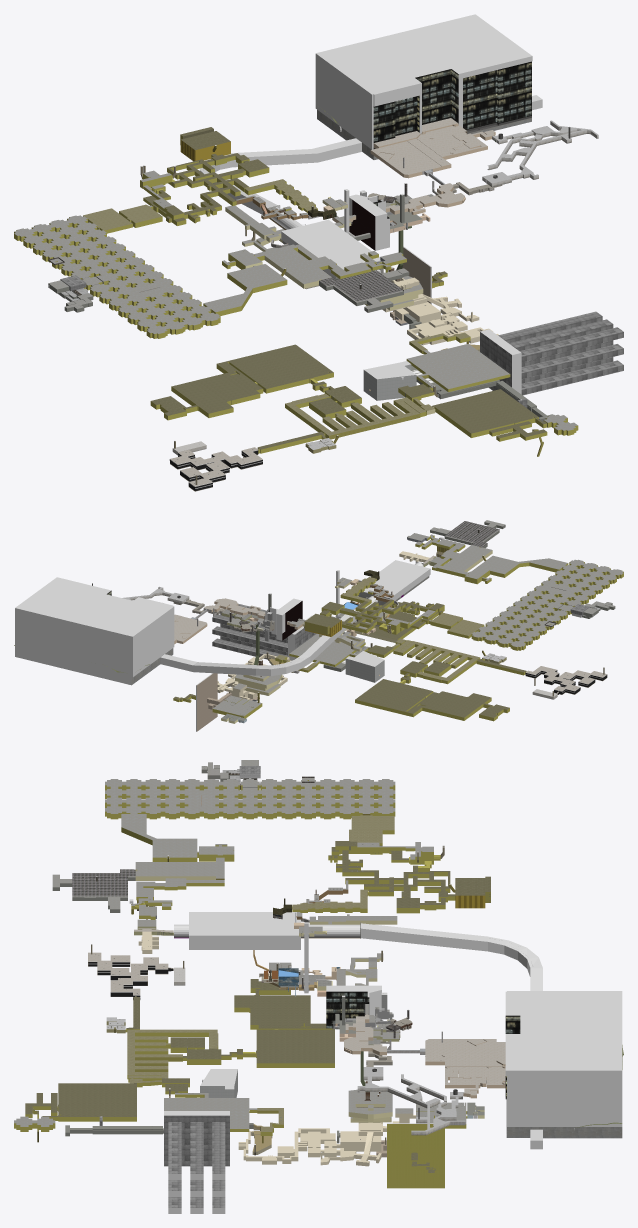
File: blender_map.glb
The picture shows the model from 3 angles, top to bottom: view 1: azimuth 30°, elevation 25°; view 2: azimuth 150°, elevation 25°; view 3: azimuth 270°, elevation 25°; orthographic projection. The views are drawn at different scales.
Visible parts, largest first — view 1: wg_cut; view 2: wg_cut; view 3: wg_cut.
Boxes of the visible parts, box(x1,y1,x2,y2) form: wg_cut: box(14, 14, 623, 491); wg_cut: box(15, 520, 623, 731); wg_cut: box(14, 760, 622, 1213).
Bounding box in the file's own units: 488 × 155 × 398.
Materials: 215 (164 with a texture image).
